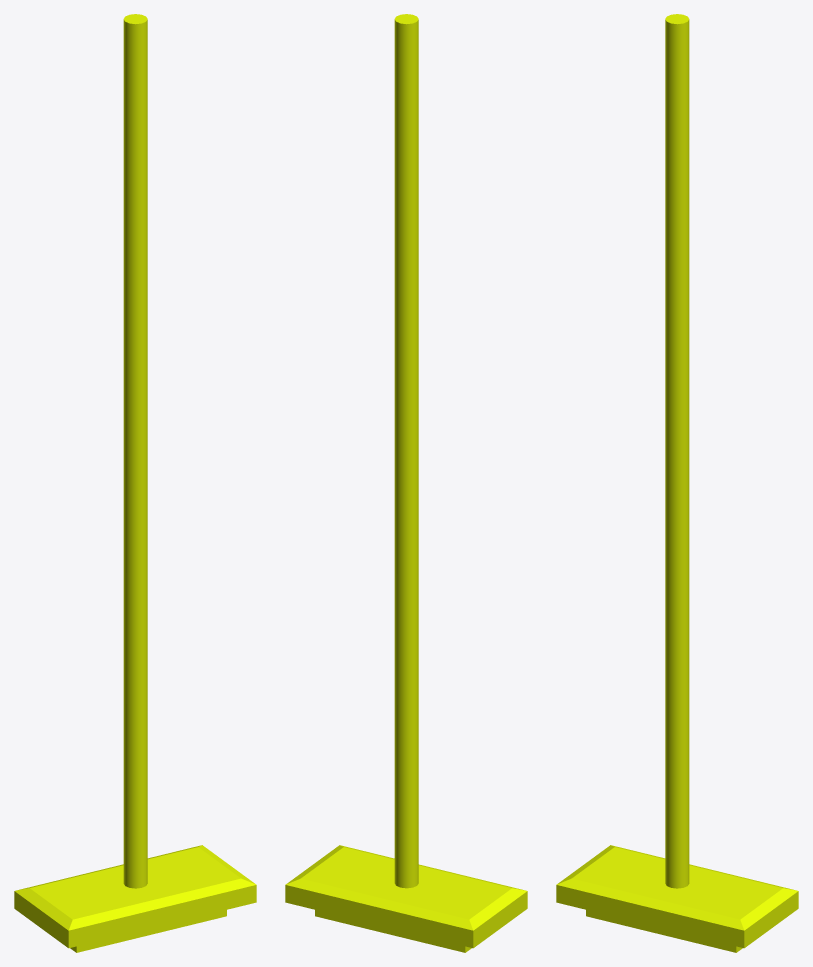
The model's file is Broom.FBX.
3 renders of one model, left to right at view 1: azimuth 30°, elevation 25°; view 2: azimuth 150°, elevation 25°; view 3: azimuth 330°, elevation 25°, orthographic.
Visible parts, largest first — view 1: Box028; view 2: Box028; view 3: Box028.
Part boxes in pixels (x1,y1,x2,y2): Box028: (14, 14, 256, 952); Box028: (285, 14, 527, 952); Box028: (556, 14, 798, 952).
Size of the model in its own units: 0.4484 by 2.06 by 0.2242.
